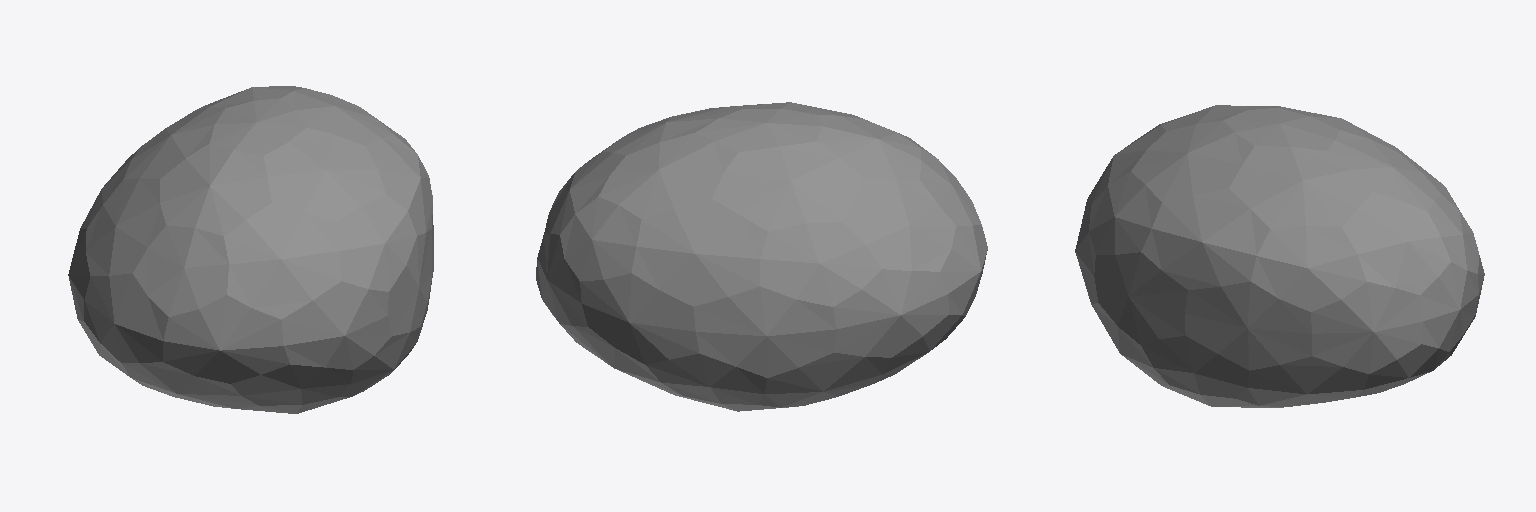
File: asteroid.obj
3 renders of one model, left to right at view 1: azimuth 30°, elevation 25°; view 2: azimuth 150°, elevation 25°; view 3: azimuth 270°, elevation 25°, orthographic.
Parts seen in each view (by area): view 1: GeoSphere001; view 2: GeoSphere001; view 3: GeoSphere001.
Boxes of the visible parts, x1=… form: GeoSphere001: x1=68, y1=86, x2=433, y2=413; GeoSphere001: x1=536, y1=102, x2=987, y2=411; GeoSphere001: x1=1075, y1=105, x2=1484, y2=407.
Size of the model in its own units: 30 by 21.5 by 30.